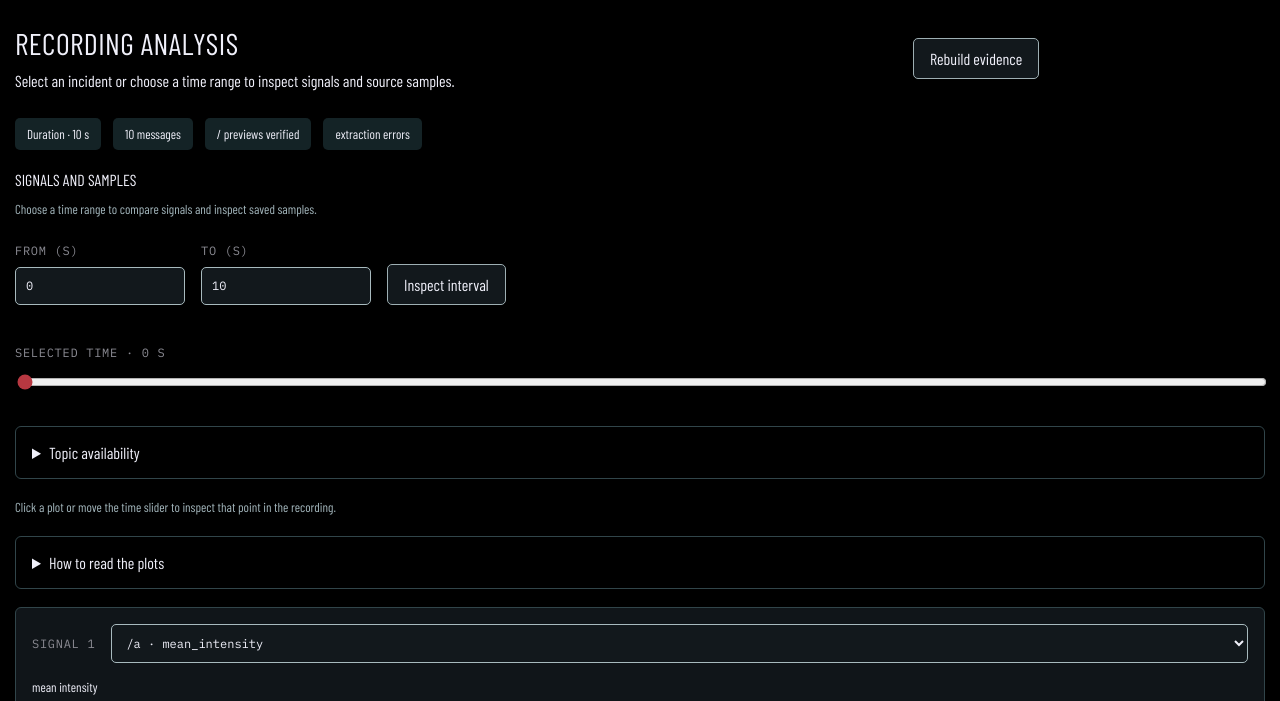
Scenario: opens offline evidence and moves a shared cursor without replay or another request
Set the slider named "Recorded time cursor" to "5": (642, 382) x1=17 y1=374 x2=1267 y2=390
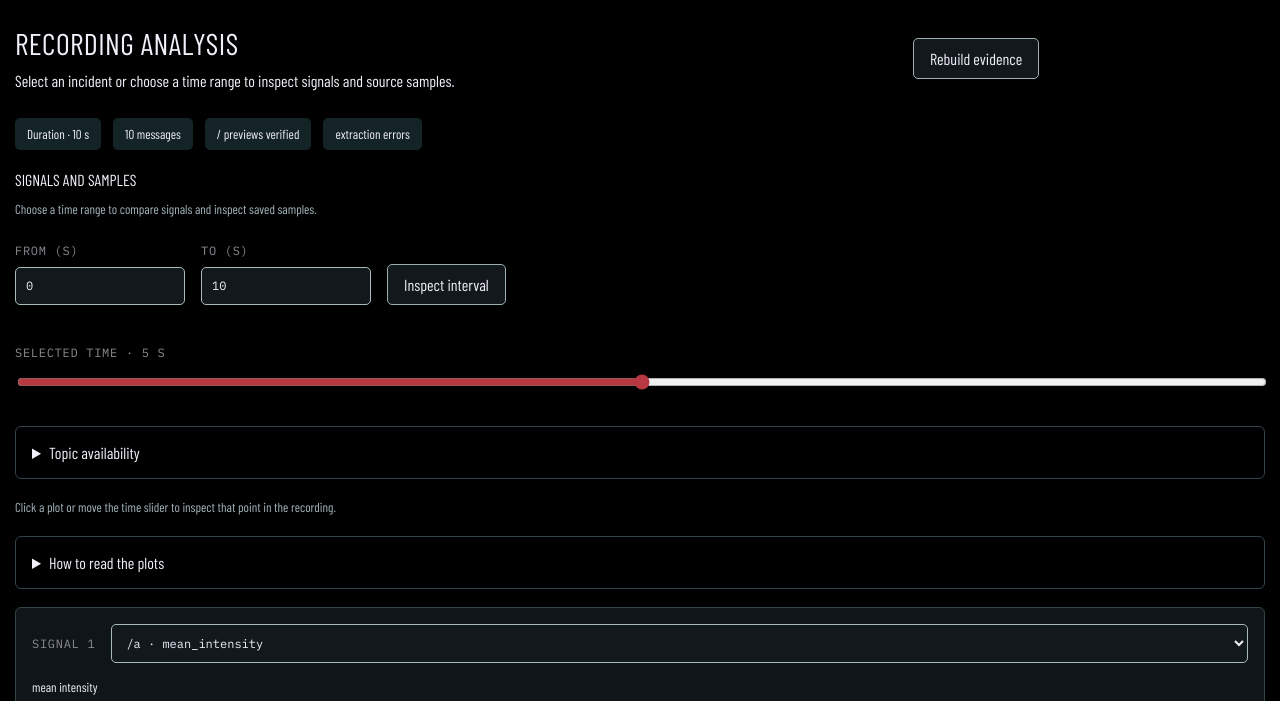
Replace the text in the number field named "Interval end seconds" with "99": (286, 286) x1=201 y1=267 x2=371 y2=305
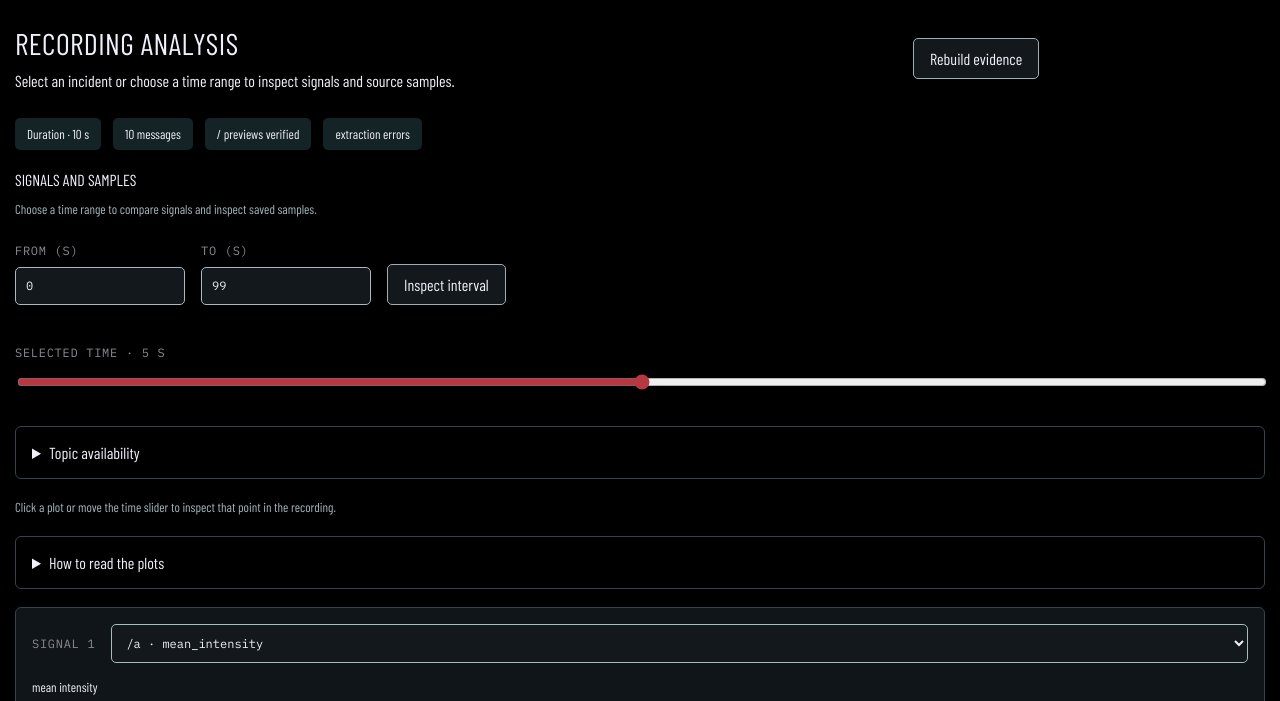
Submit the form "Inspect interval", box x1=15 y1=243 x2=506 y2=305
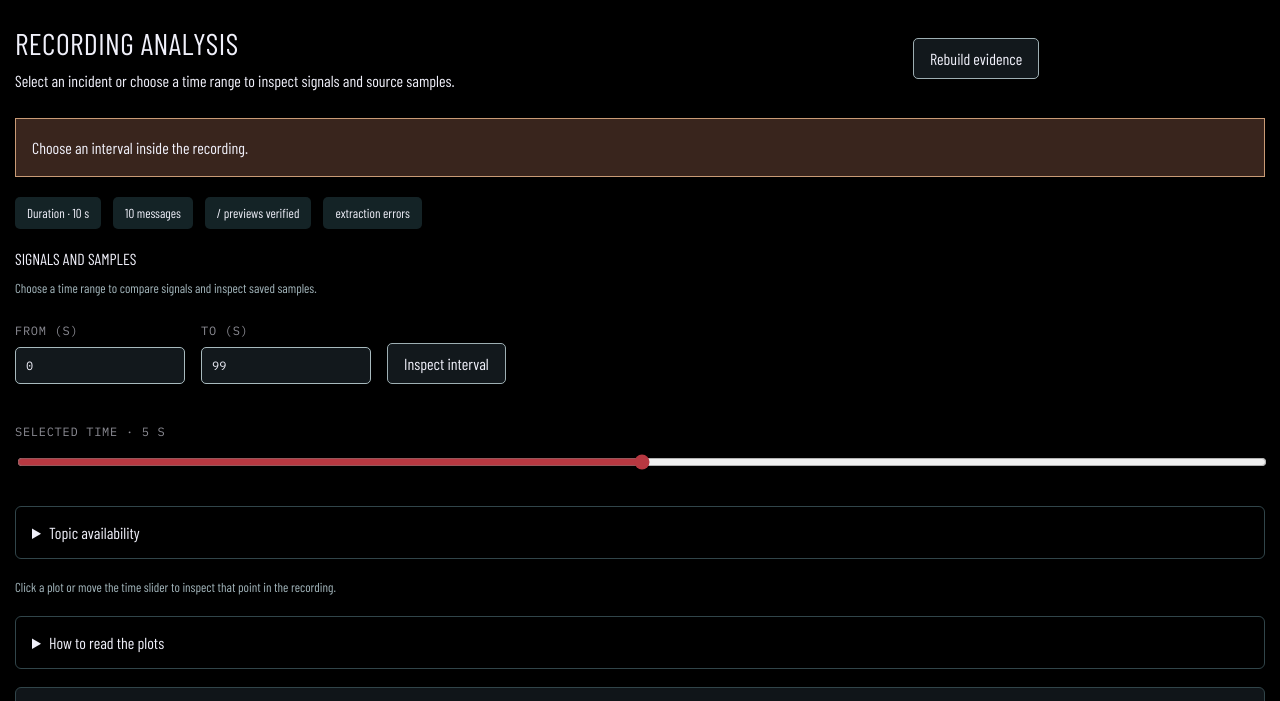
Expected: the message shows "inside the recording", x1=32 y1=138 x2=245 y2=157
